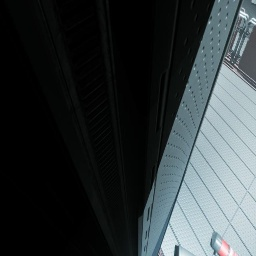FireExtinguisher ]: (212, 232, 238, 256)
NitrogenTank ,: (176, 245, 196, 256)
